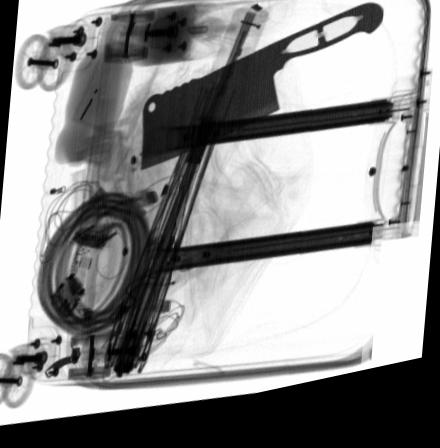Knife: (140, 17, 384, 177)
